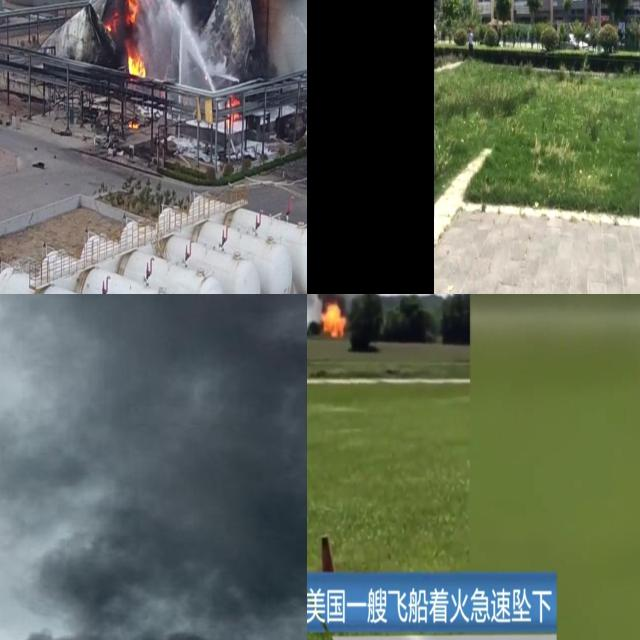fire: (112, 0, 149, 81), (319, 300, 348, 338), (227, 93, 241, 122), (128, 118, 138, 132)
smoke: (0, 294, 307, 640)
